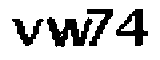4: (115, 6, 150, 49)
7: (86, 5, 115, 47)
v: (7, 15, 44, 48)
w: (45, 15, 91, 48)
